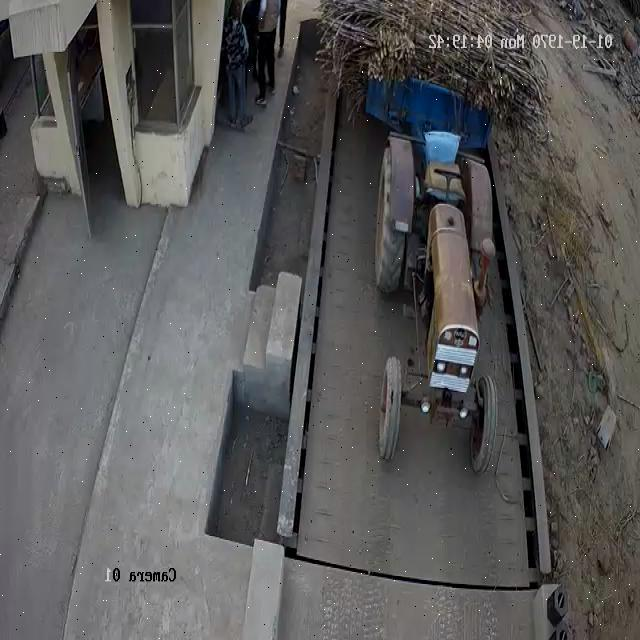Tratores - v5 YOLO V8L 2024-11-13: (367, 126, 499, 482)
